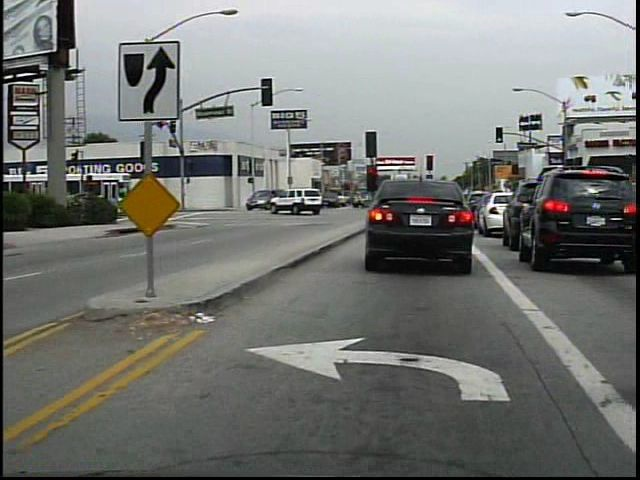person: (106, 188, 127, 225)
